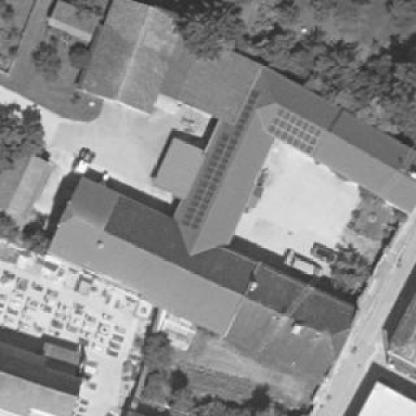solar-pv-panel: (180, 90, 261, 230), (266, 108, 323, 154)
